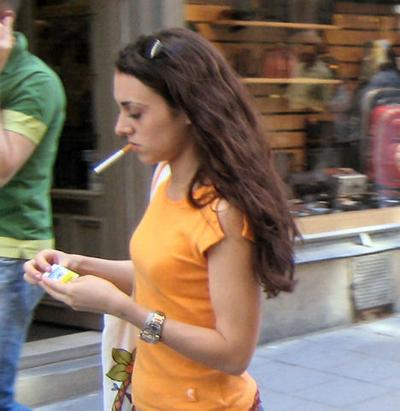person: (22, 27, 297, 411)
